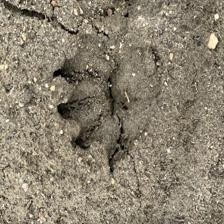raccoon: (22, 28, 199, 187)
